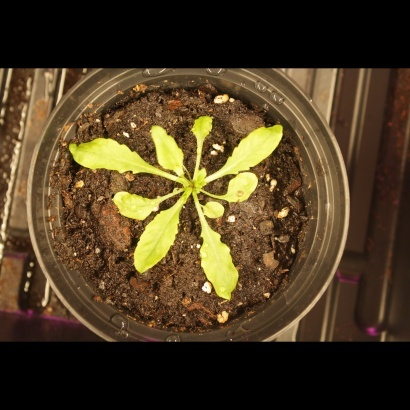leaf: (65, 129, 149, 179), (222, 116, 292, 174), (134, 201, 185, 278), (196, 226, 240, 301), (147, 120, 188, 176), (107, 186, 163, 225), (222, 170, 265, 205), (187, 111, 219, 143), (199, 197, 228, 223)
